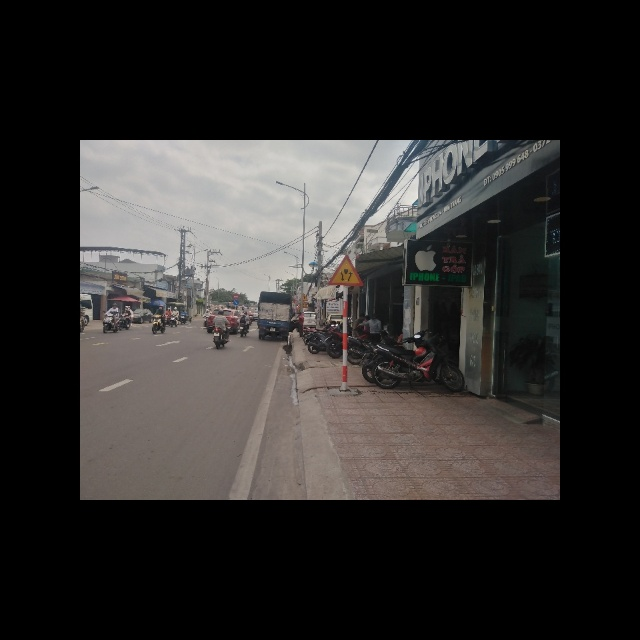Đường đôi: (328, 252, 365, 286)
